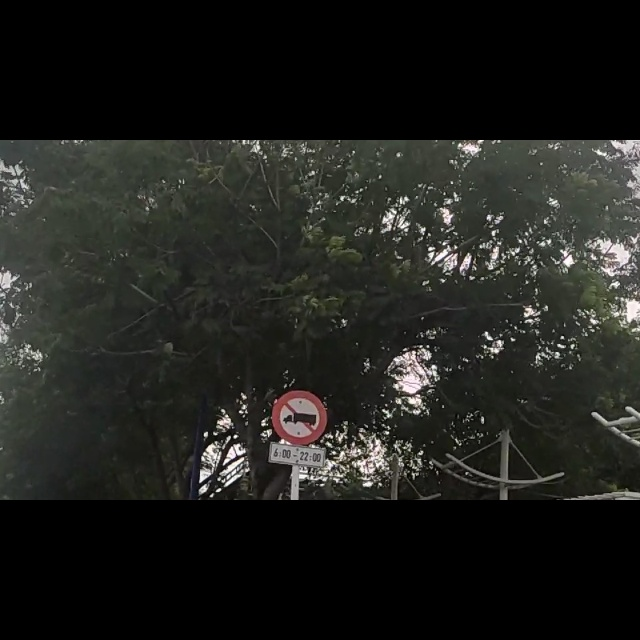bien_cam: (269, 443, 323, 576)
